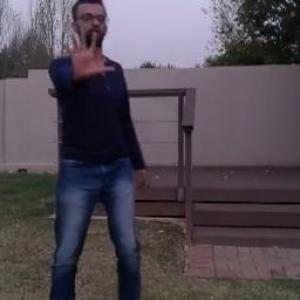follow_hand: (60, 27, 116, 81)
